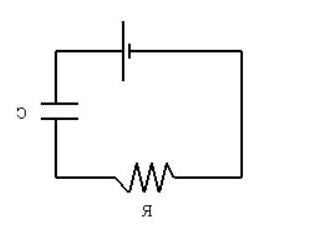Capacitor: (30, 84, 86, 140)
